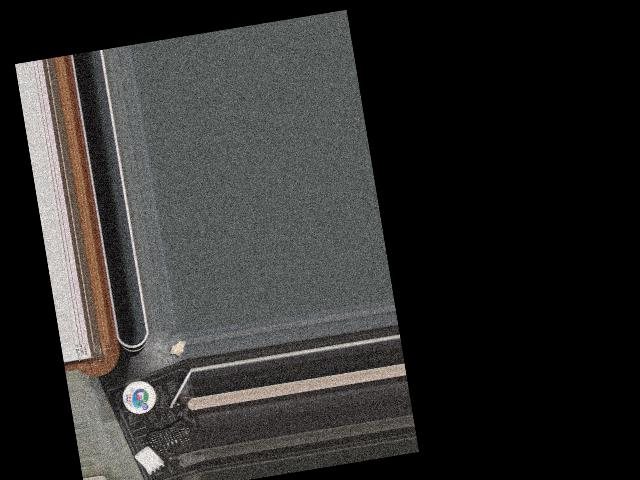cotage: (113, 376, 159, 418)
